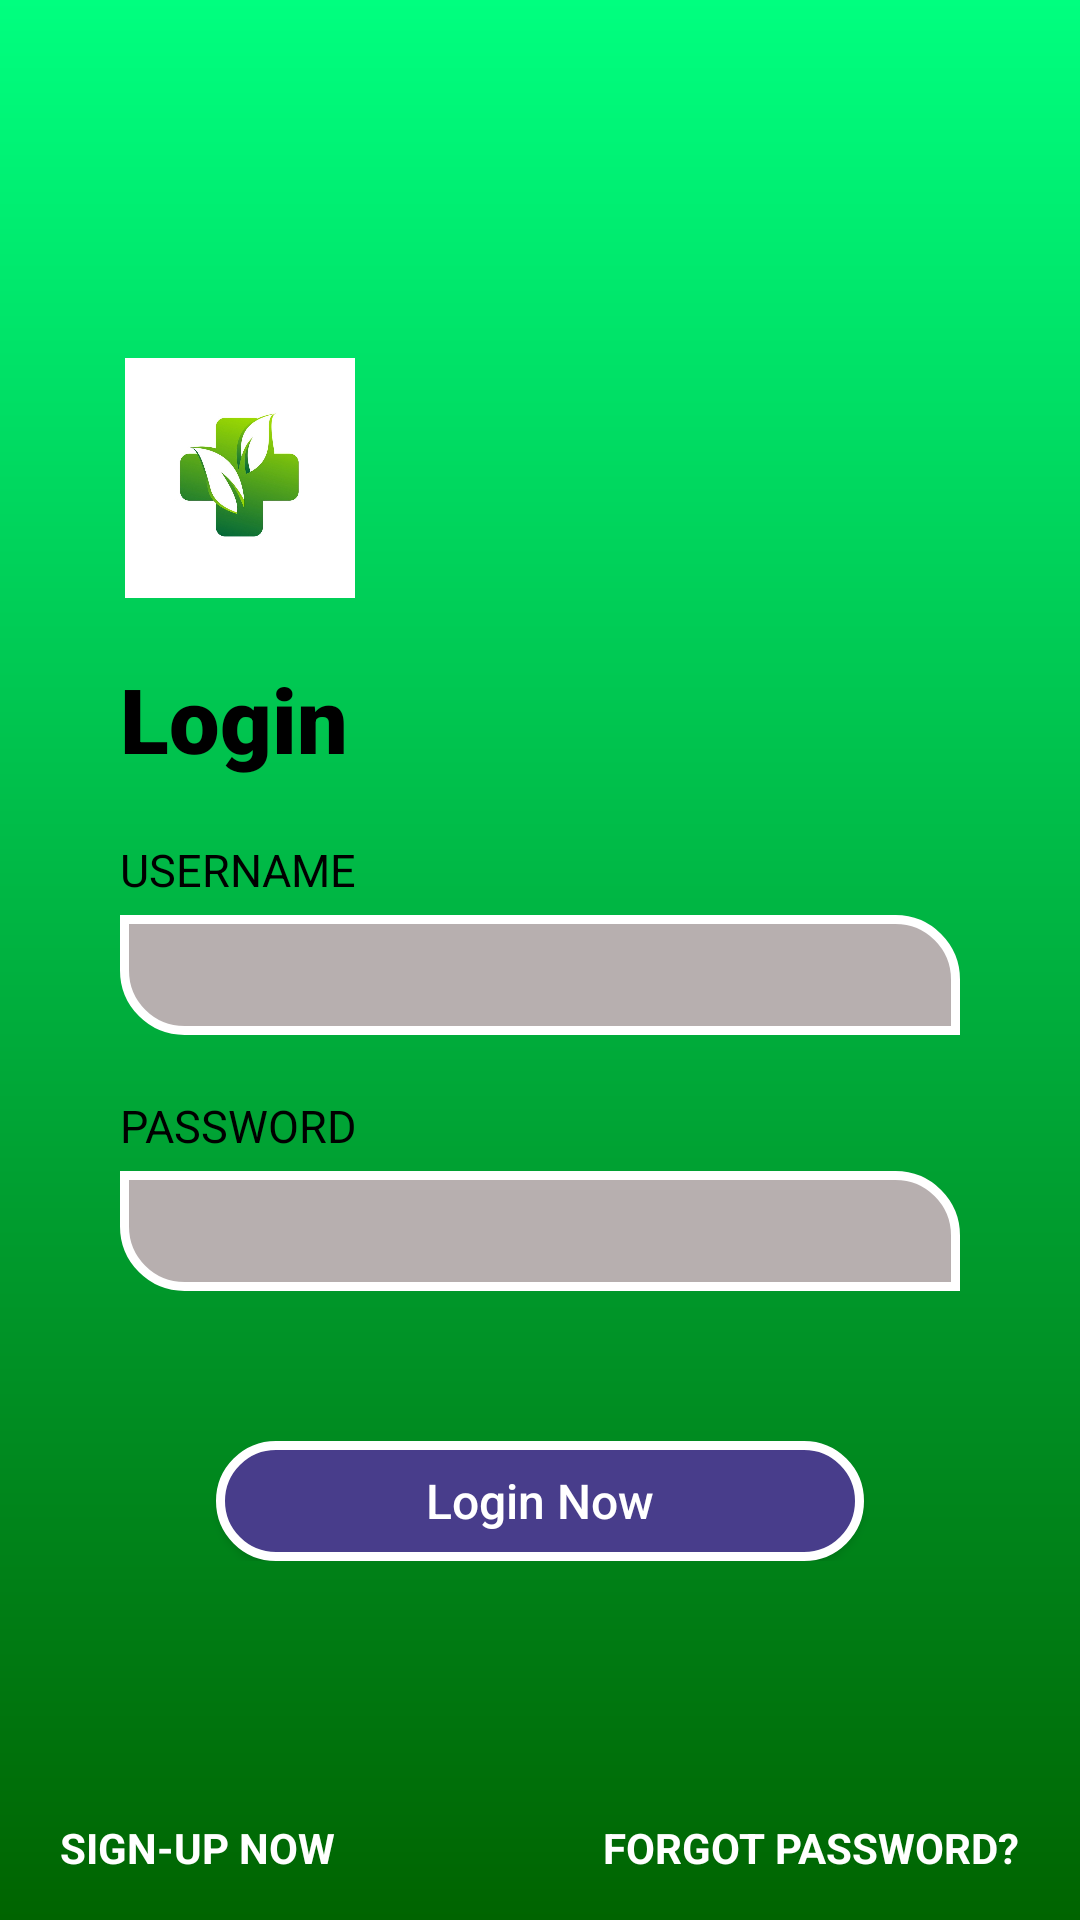

Icons on this 1080 × 1920 Android screen, each with its box as {"left": x1, "top": y1, "right": x2, "bottom": y2}:
mediplus: {"left": 125, "top": 358, "right": 355, "bottom": 598}
